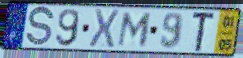9: (54, 7, 81, 48), (159, 11, 183, 51)
M: (115, 11, 154, 48)
S: (24, 5, 56, 49)
T: (191, 11, 217, 53)
X: (87, 7, 121, 50)
